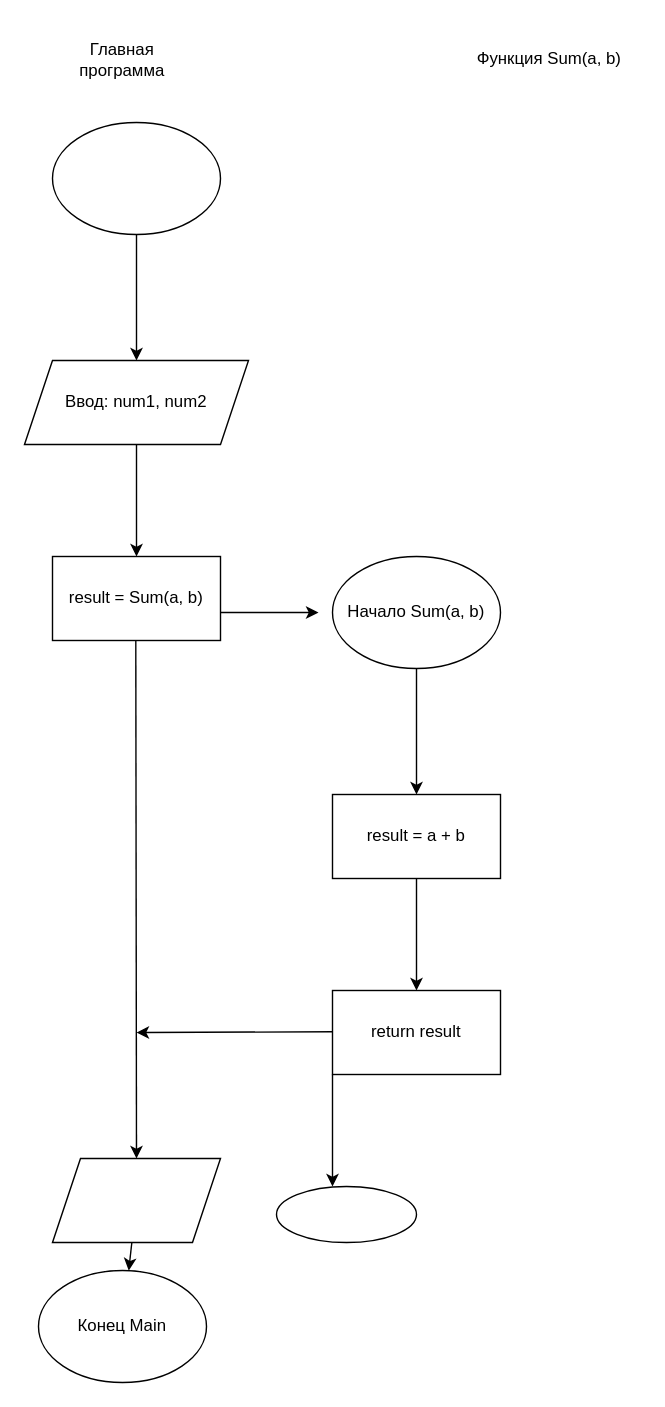
Image size: 665x1407. Some labels were removed from this diagram. Each missing label, with the centre of its shape:
Вывод: result: (135,1199)
Конец Sum: (345,1213)
Начало Main: (135,177)
